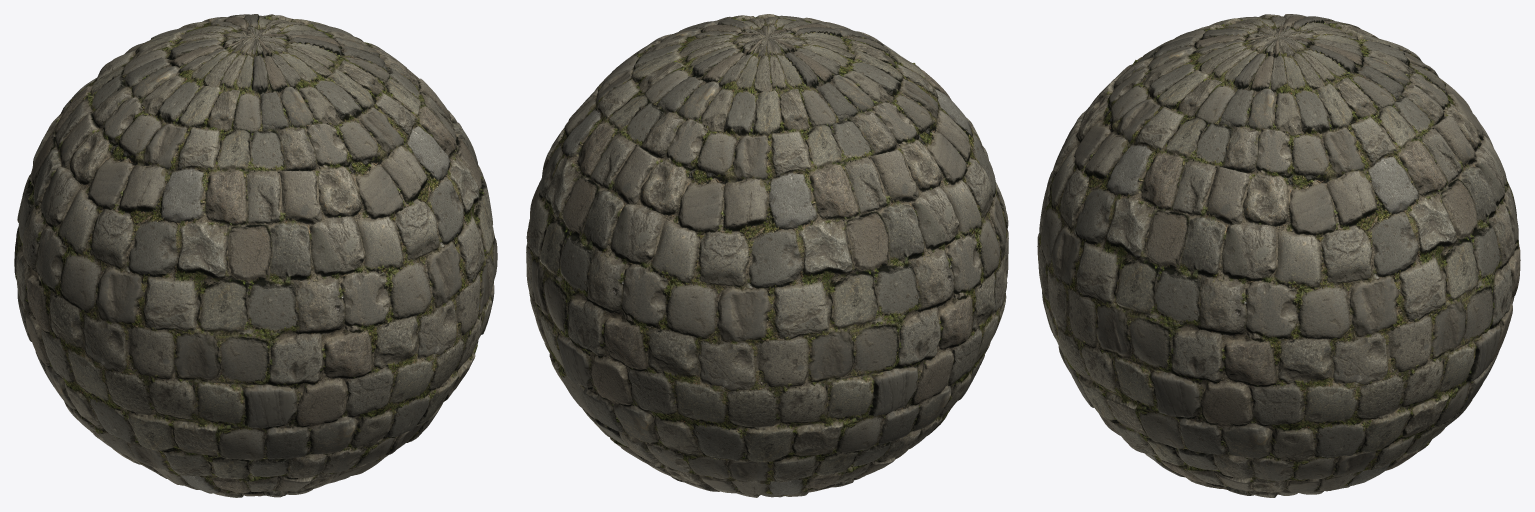
Rendered from cobblestone_floor_07.gltf.
3 views of the same model, side by side, from view 1: azimuth 30°, elevation 25°; view 2: azimuth 150°, elevation 25°; view 3: azimuth 270°, elevation 25° (orthographic).
Visible parts, largest first — view 1: sphere_gltf; view 2: sphere_gltf; view 3: sphere_gltf.
Part boxes in pixels (x1,y1,x2,y2): sphere_gltf: (14, 14, 497, 497); sphere_gltf: (526, 14, 1008, 497); sphere_gltf: (1037, 14, 1520, 497).
Bounding box in the file's own units: 2.02 × 2.03 × 2.02.
1 material, 1 textured.
